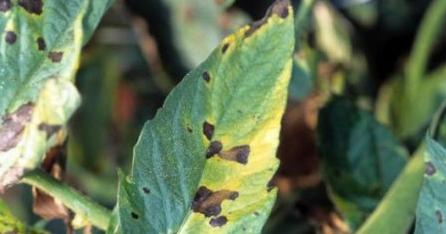Tomato Early blight leaf: (107, 11, 316, 234), (0, 0, 158, 183)
